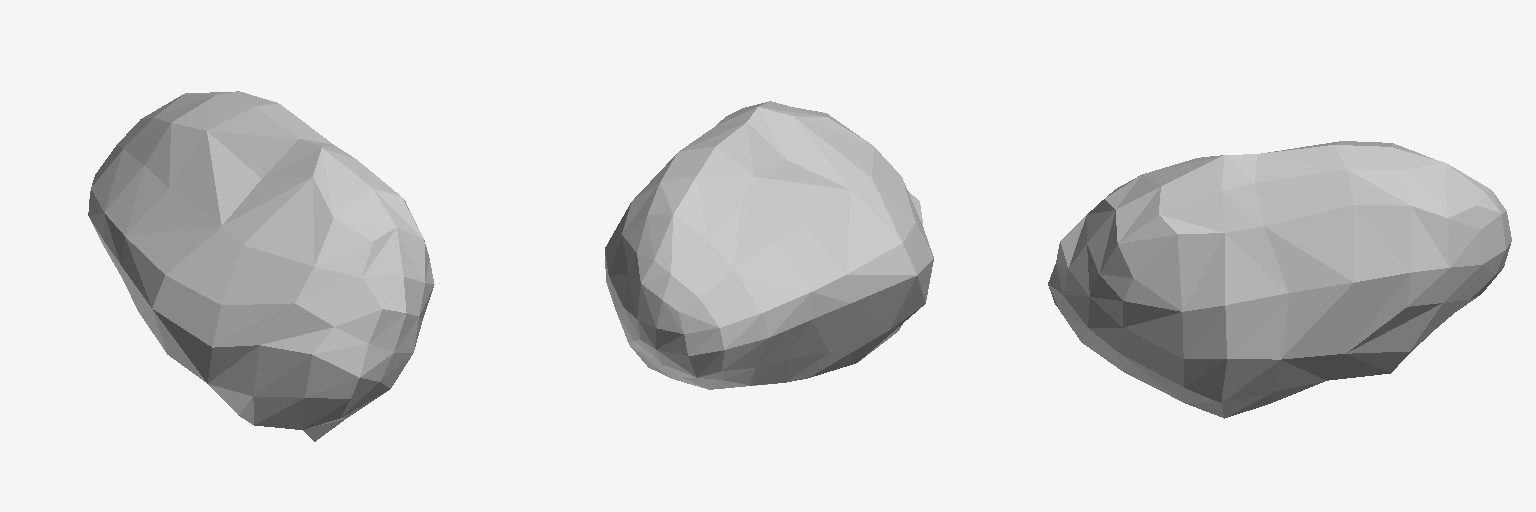
The model's file is Asteroid.obj.
3 views of the same model, side by side, from view 1: azimuth 30°, elevation 25°; view 2: azimuth 150°, elevation 25°; view 3: azimuth 270°, elevation 25° (orthographic).
Parts seen in each view (by area): view 1: AsteroidA; view 2: AsteroidA; view 3: AsteroidA.
Part boxes in pixels (bbox=[...]): AsteroidA: bbox=[88, 91, 434, 441]; AsteroidA: bbox=[605, 101, 933, 389]; AsteroidA: bbox=[1048, 141, 1511, 418].
Bounding box in the file's own units: 4.46 × 4.15 × 7.08.